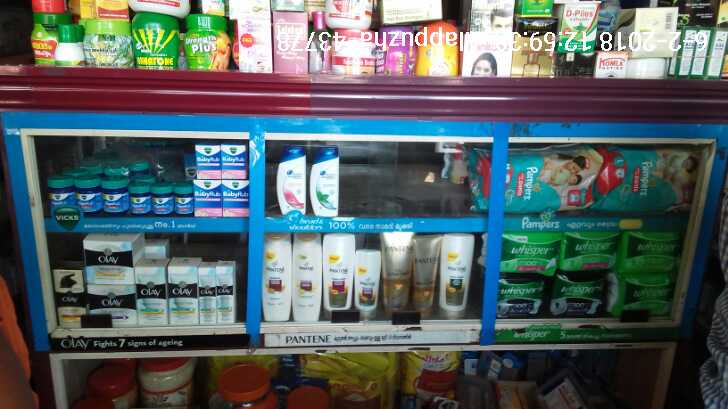vicks: (44, 154, 192, 222), (192, 141, 251, 222)
